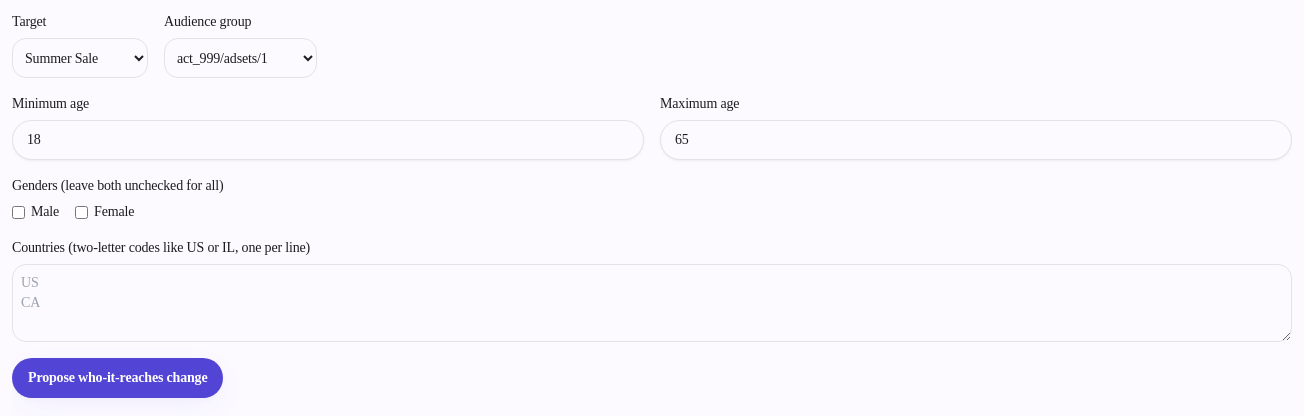
Test case: AutomationProposeMetaAdSetTargetingEditForm › shows an inline error and does not refresh when the request fails
The width and height of the screenshot is (1304, 416).
Type "US" into the text box labelled "Countries (two-letter codes like US or IL, one per line)" at (652, 303), box [12,264,1292,342]
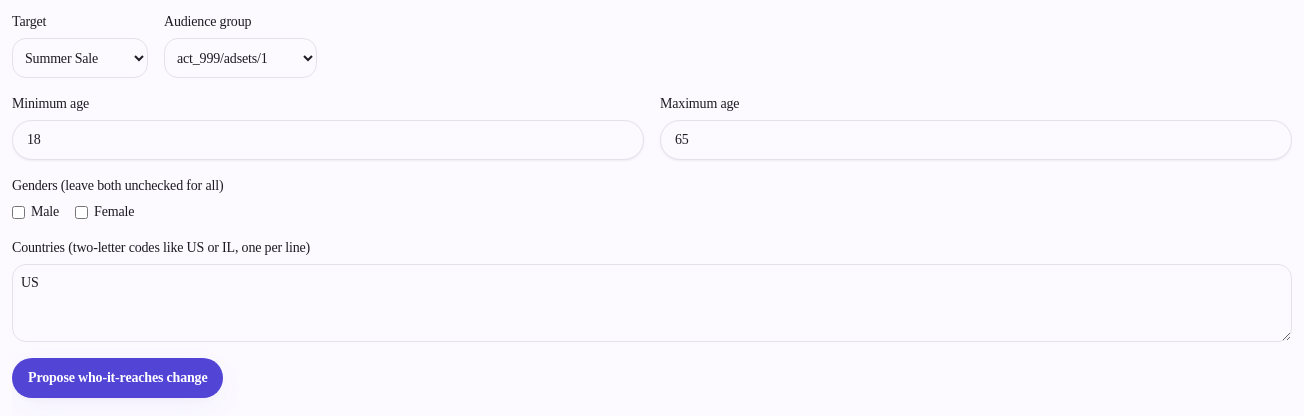
Click the button "Propose who-it-reaches change" at (118, 378), box [12,358,224,398]
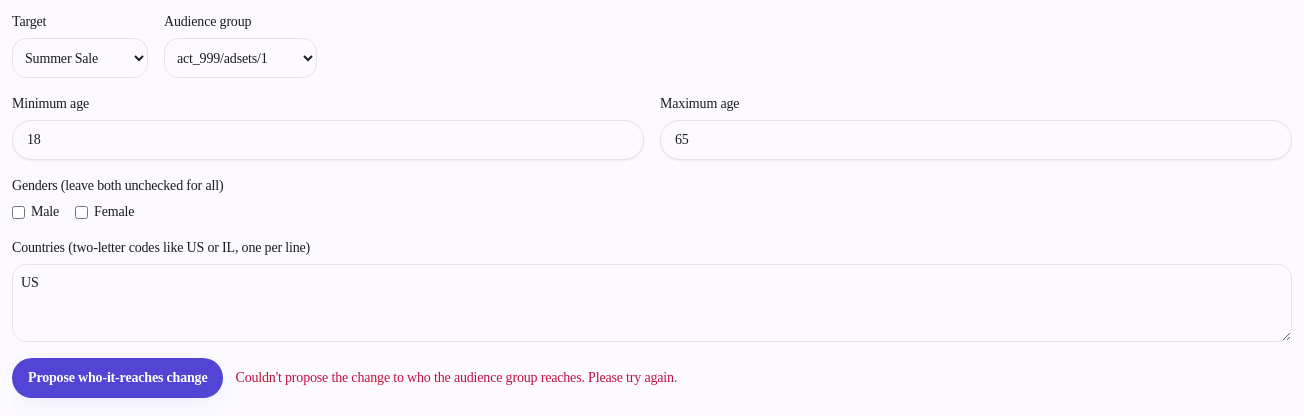
Result: the message reads "Couldn't propose the change to who the audience group reaches. Please try again." at [236,370,677,385]
